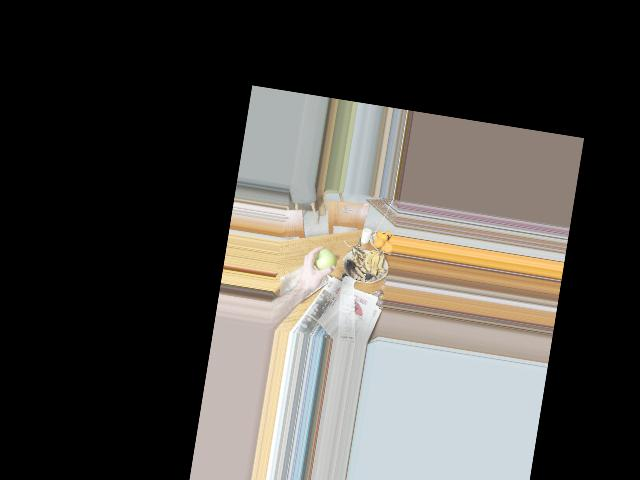apple: (312, 247, 338, 273)
